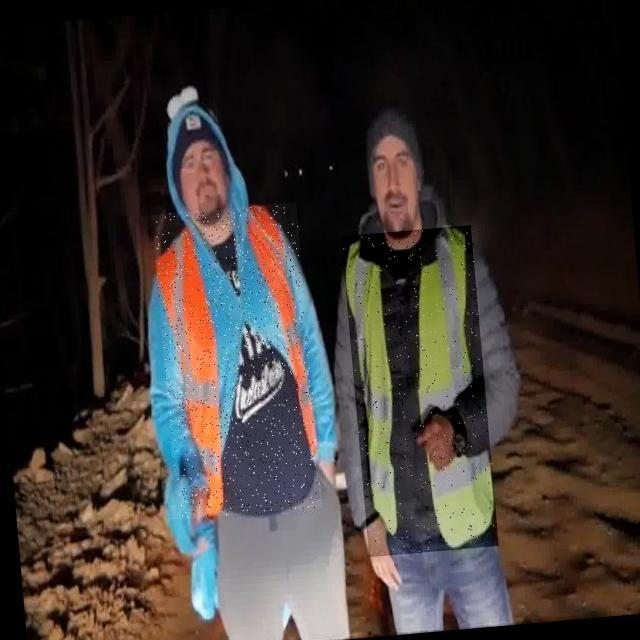Person: (130, 61, 333, 640), (338, 92, 535, 640)
Safety Vest: (151, 203, 322, 520), (341, 225, 499, 557)
bare-arms: (355, 509, 409, 604), (418, 398, 466, 478), (190, 478, 215, 558)
no-helmet: (154, 82, 234, 153), (368, 98, 425, 158)
